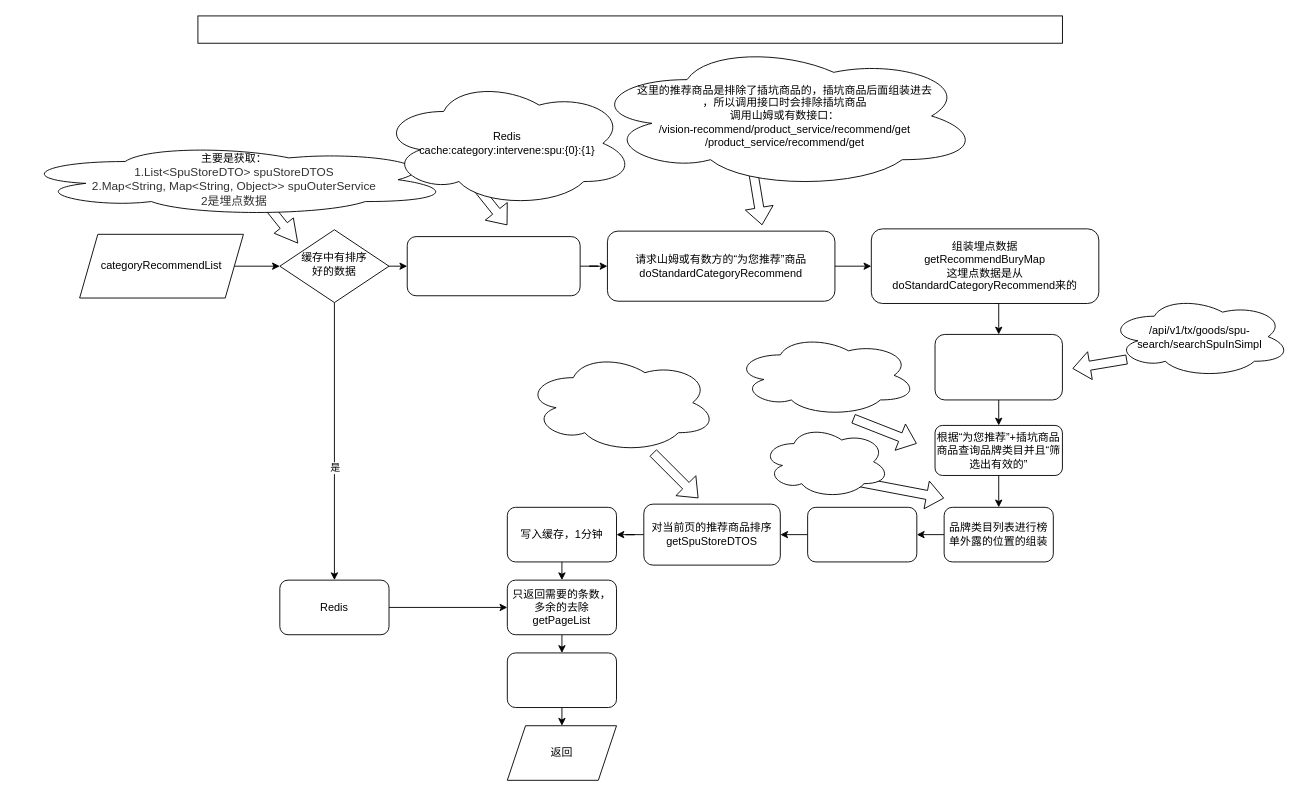
Some shapes in this 1307 by 796 pixel diagram are drawn without their labels. Here are the shapes that lost their labels. From the top down, the centre of each, then its label:
[629,29]: RecommendSearchServiceImpl
[493,266]: 获取插坑商品 getCategoryInterveneSpuDTOS
[825,375]: 新接口，直接查询 spu 表 /api/v1/tx/goods/spu-search/searchSpuAndBrand
[998,367]: “为您推荐”+插坑商品 进行其中的有效商品的查询 getConditionResponse
[621,402]: 根据插坑商品、 榜单商品、 已购商品 对查询到的数据进行减坑排序
[825,461]: 只取榜单前五的商品
[862,534]: 插坑埋点的组装标记 buildInterveneTag
[561,680]: 查询商品的详细信息 getFullDetail
